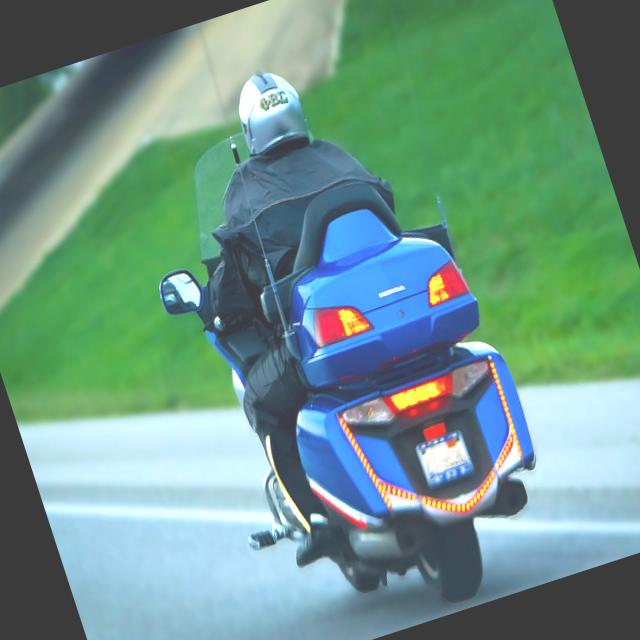Vehicle: (208, 183, 570, 640)
